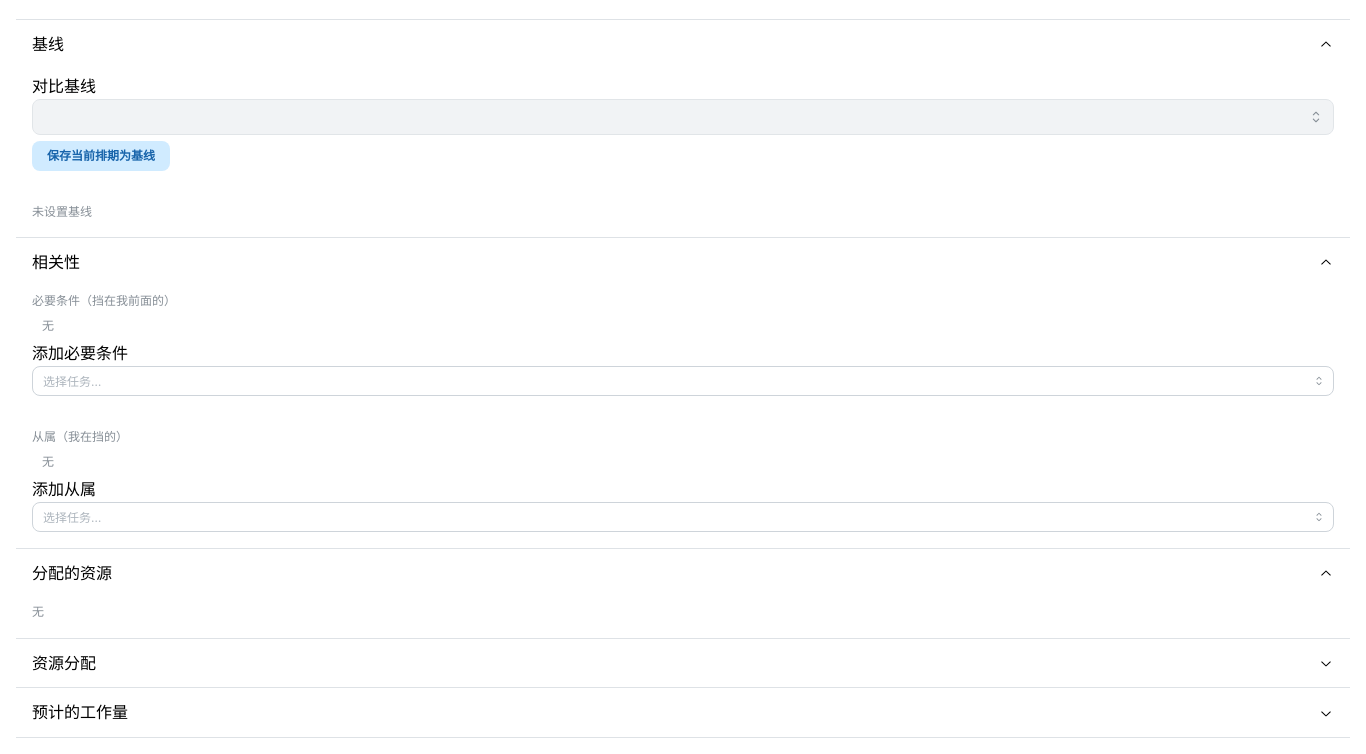
Test: 相关性组（必要条件 / 从属两段） › 在「从属」里添加：本任务 → 候选，且只落在「从属」段
(page scrolled)
Click the dropdown labelled "添加从属". click: click(683, 517)
box: [32,502,1334,532]
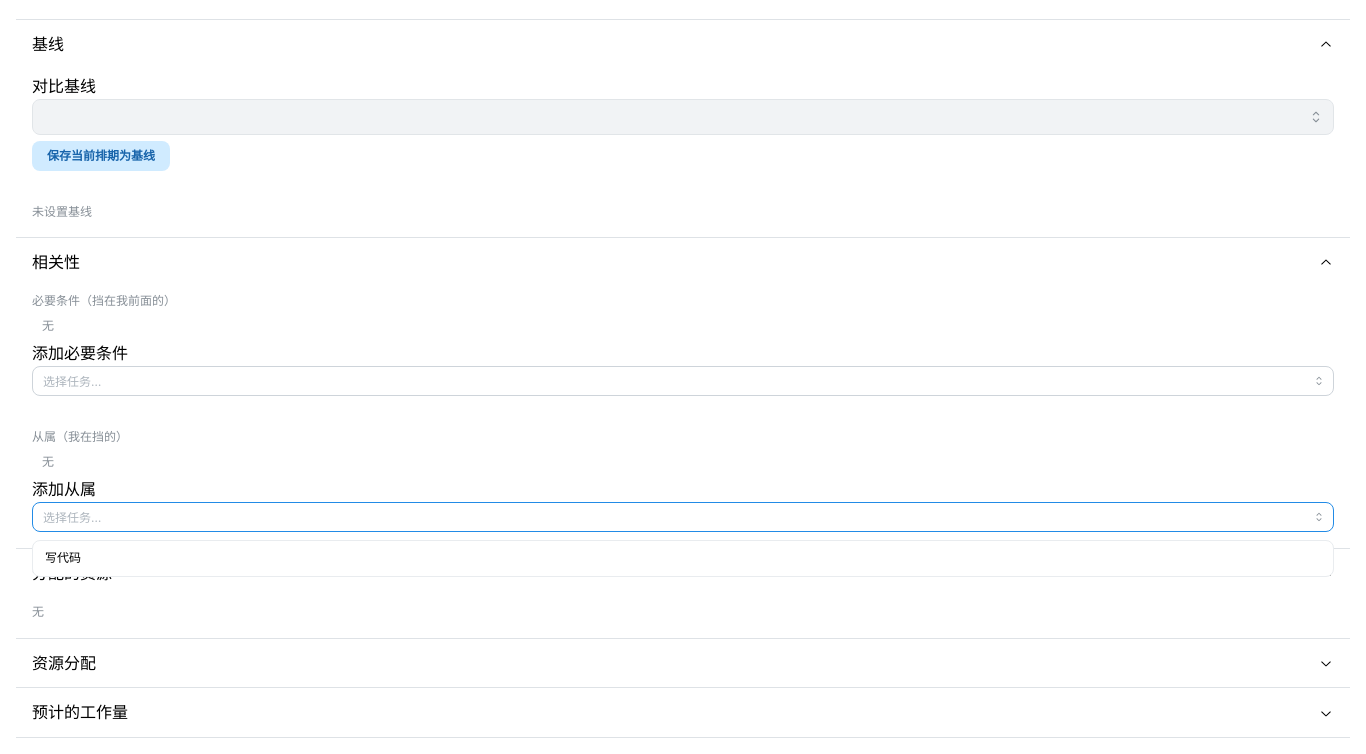
Click the option "写代码". click: click(63, 558)
box: [45,550,81,565]
(page scrolled)
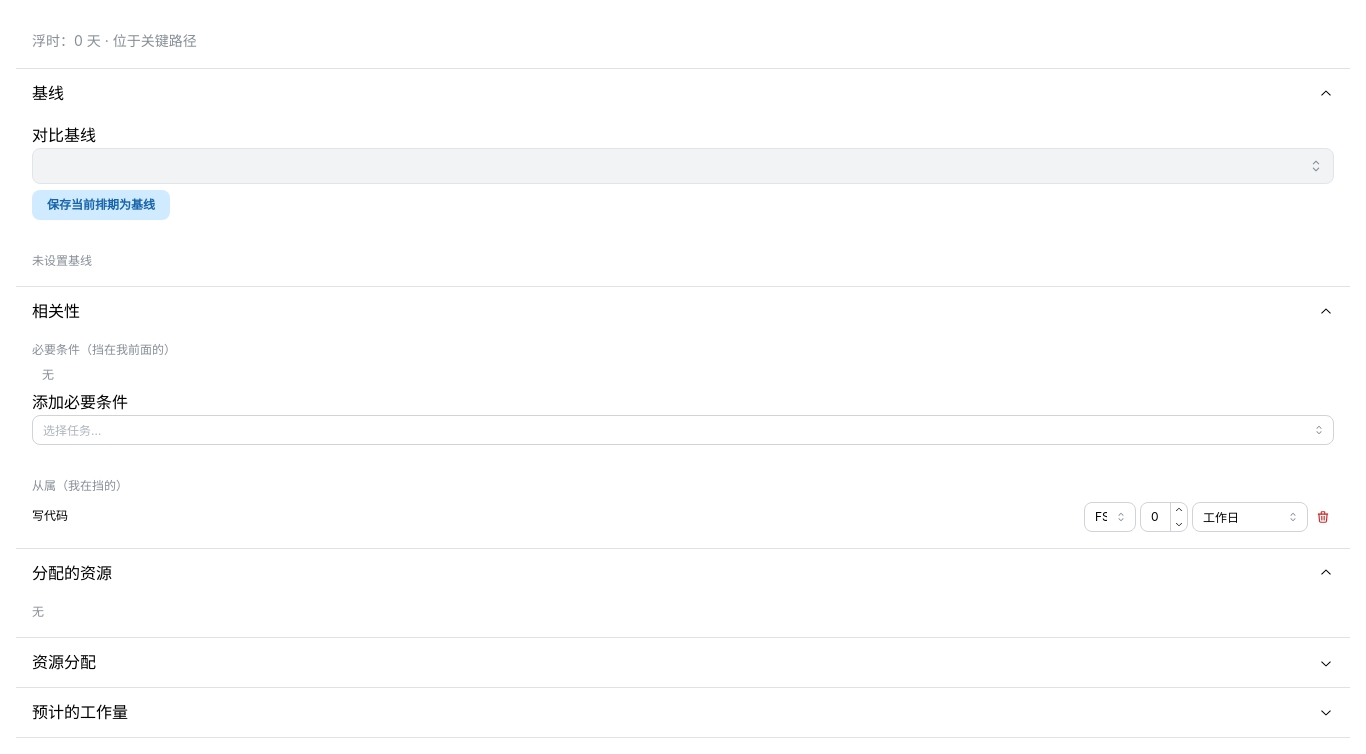
Expected: the text "写代码" is shown, [32,508,68,523]
